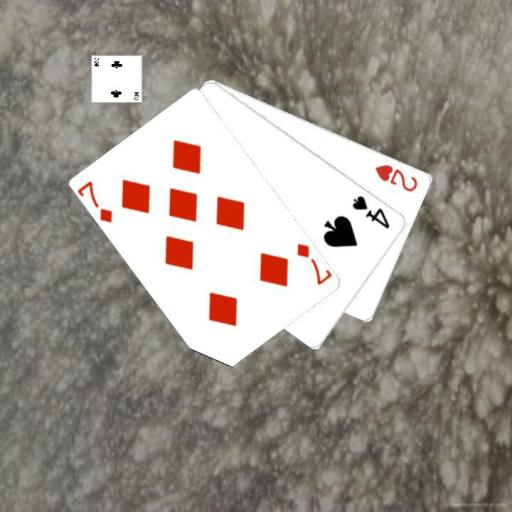2H: (372, 161, 419, 193)
4S: (349, 192, 392, 230)
7D: (76, 178, 115, 225), (294, 240, 332, 287)
